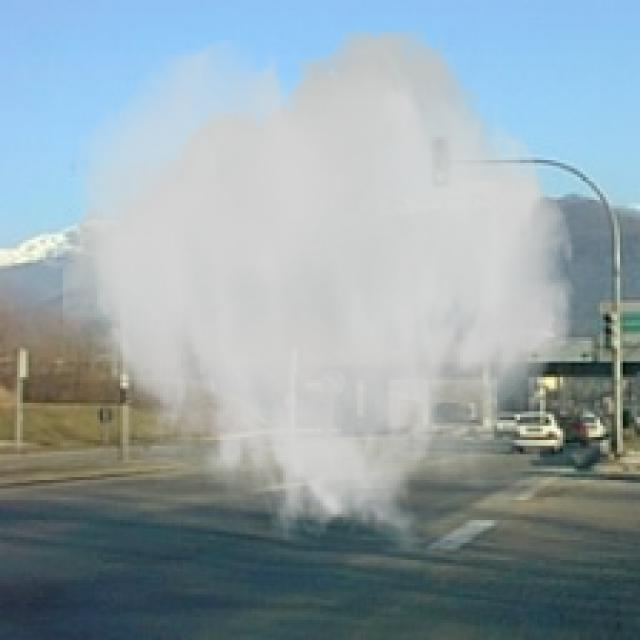Smoke: (63, 28, 580, 554)
